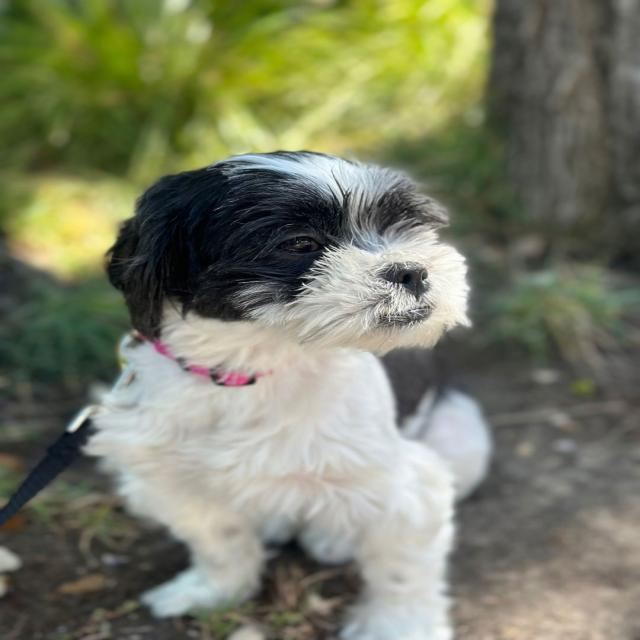shih_tzu_dog: (79, 130, 494, 372)
